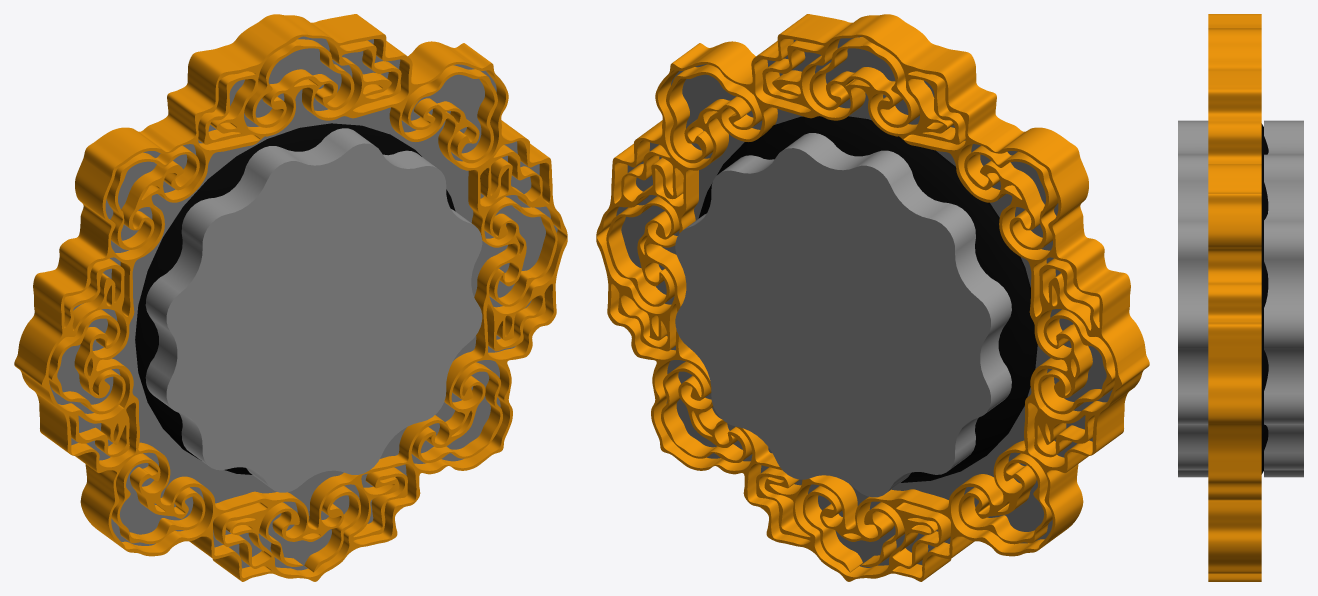
The picture shows the model from 3 angles, left to right: view 1: azimuth 30°, elevation 25°; view 2: azimuth 150°, elevation 25°; view 3: azimuth 270°, elevation 25°; orthographic projection. The views are drawn at different scales.
Parts seen in each view (by area): view 1: Shape0025, Star001, Shape028, Sphere001; view 2: Shape0025, Star003, Shape028, Sphere003; view 3: Shape0025, Star003, Star001, Sphere003.
Part boxes in pixels (x1,y1,x2,y2): Shape0025: [14, 14, 567, 581]; Star001: [145, 128, 482, 492]; Shape028: [49, 36, 557, 570]; Sphere001: [135, 123, 455, 474]; Shape0025: [596, 14, 1149, 581]; Star003: [675, 133, 1011, 497]; Shape028: [616, 36, 1112, 567]; Sphere003: [698, 116, 1037, 482]; Shape0025: [1208, 14, 1261, 581]; Star003: [1264, 120, 1303, 477]; Star001: [1178, 120, 1208, 477]; Sphere003: [1261, 123, 1268, 474].
Size of the model in its own units: 146 by 146 by 31.52.
